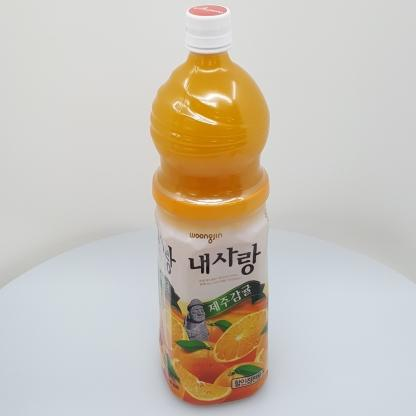----------1-5L: (150, 4, 271, 406)
